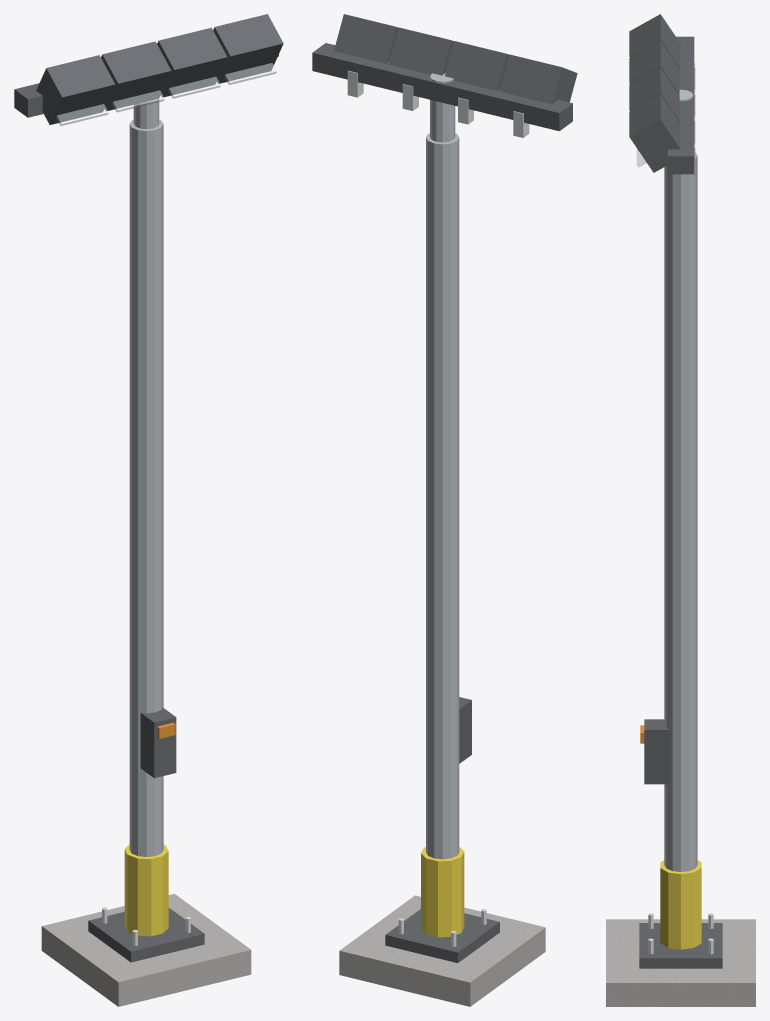
File: demolition-and-site-clearance-demolition-and-site-clea-b37456b3__35711.glb
The picture shows the model from 3 angles, left to right: view 1: azimuth 30°, elevation 25°; view 2: azimuth 150°, elevation 25°; view 3: azimuth 270°, elevation 25°; orthographic projection. The views are drawn at different scales.
Visible parts, largest first — view 1: demolition-and-site-clearance-floodlight-mast; view 2: demolition-and-site-clearance-floodlight-mast; view 3: demolition-and-site-clearance-floodlight-mast.
Boxes of the visible parts, x1,y1,x2,y2 form: demolition-and-site-clearance-floodlight-mast: [14, 14, 283, 1006]; demolition-and-site-clearance-floodlight-mast: [312, 14, 577, 1006]; demolition-and-site-clearance-floodlight-mast: [606, 14, 755, 1006].
Bounding box in the file's own units: 1.7 × 6.02 × 0.9.
Materials: 7 (1 with a texture image).
